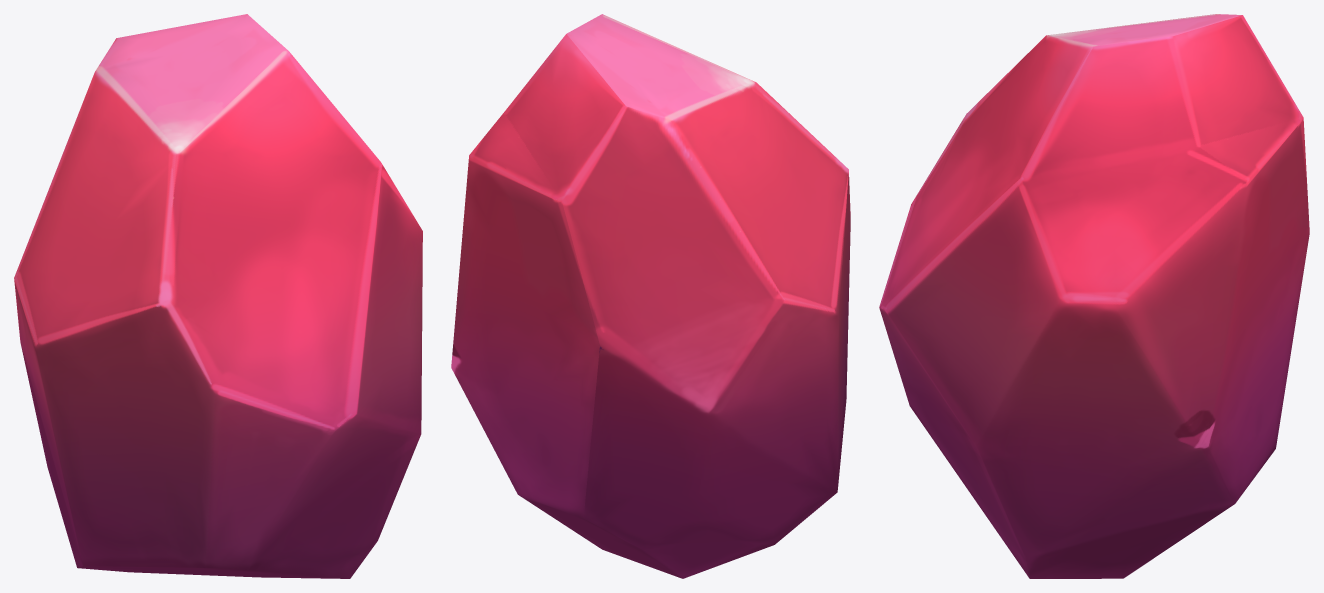
File: crystal-1.glb
3 views of the same model, side by side, from view 1: azimuth 30°, elevation 25°; view 2: azimuth 150°, elevation 25°; view 3: azimuth 270°, elevation 25° (orthographic). The views are drawn at different scales.
Visible parts, largest first — view 1: Object_2.001; view 2: Object_2.001; view 3: Object_2.001.
Part boxes in pixels (x1=…): Object_2.001: x1=14, y1=14, x2=422, y2=578; Object_2.001: x1=451, y1=14, x2=850, y2=578; Object_2.001: x1=879, y1=14, x2=1309, y2=578.
Bounding box in the file's own units: 5.64 × 7.92 × 5.63.
1 material, 1 textured.
